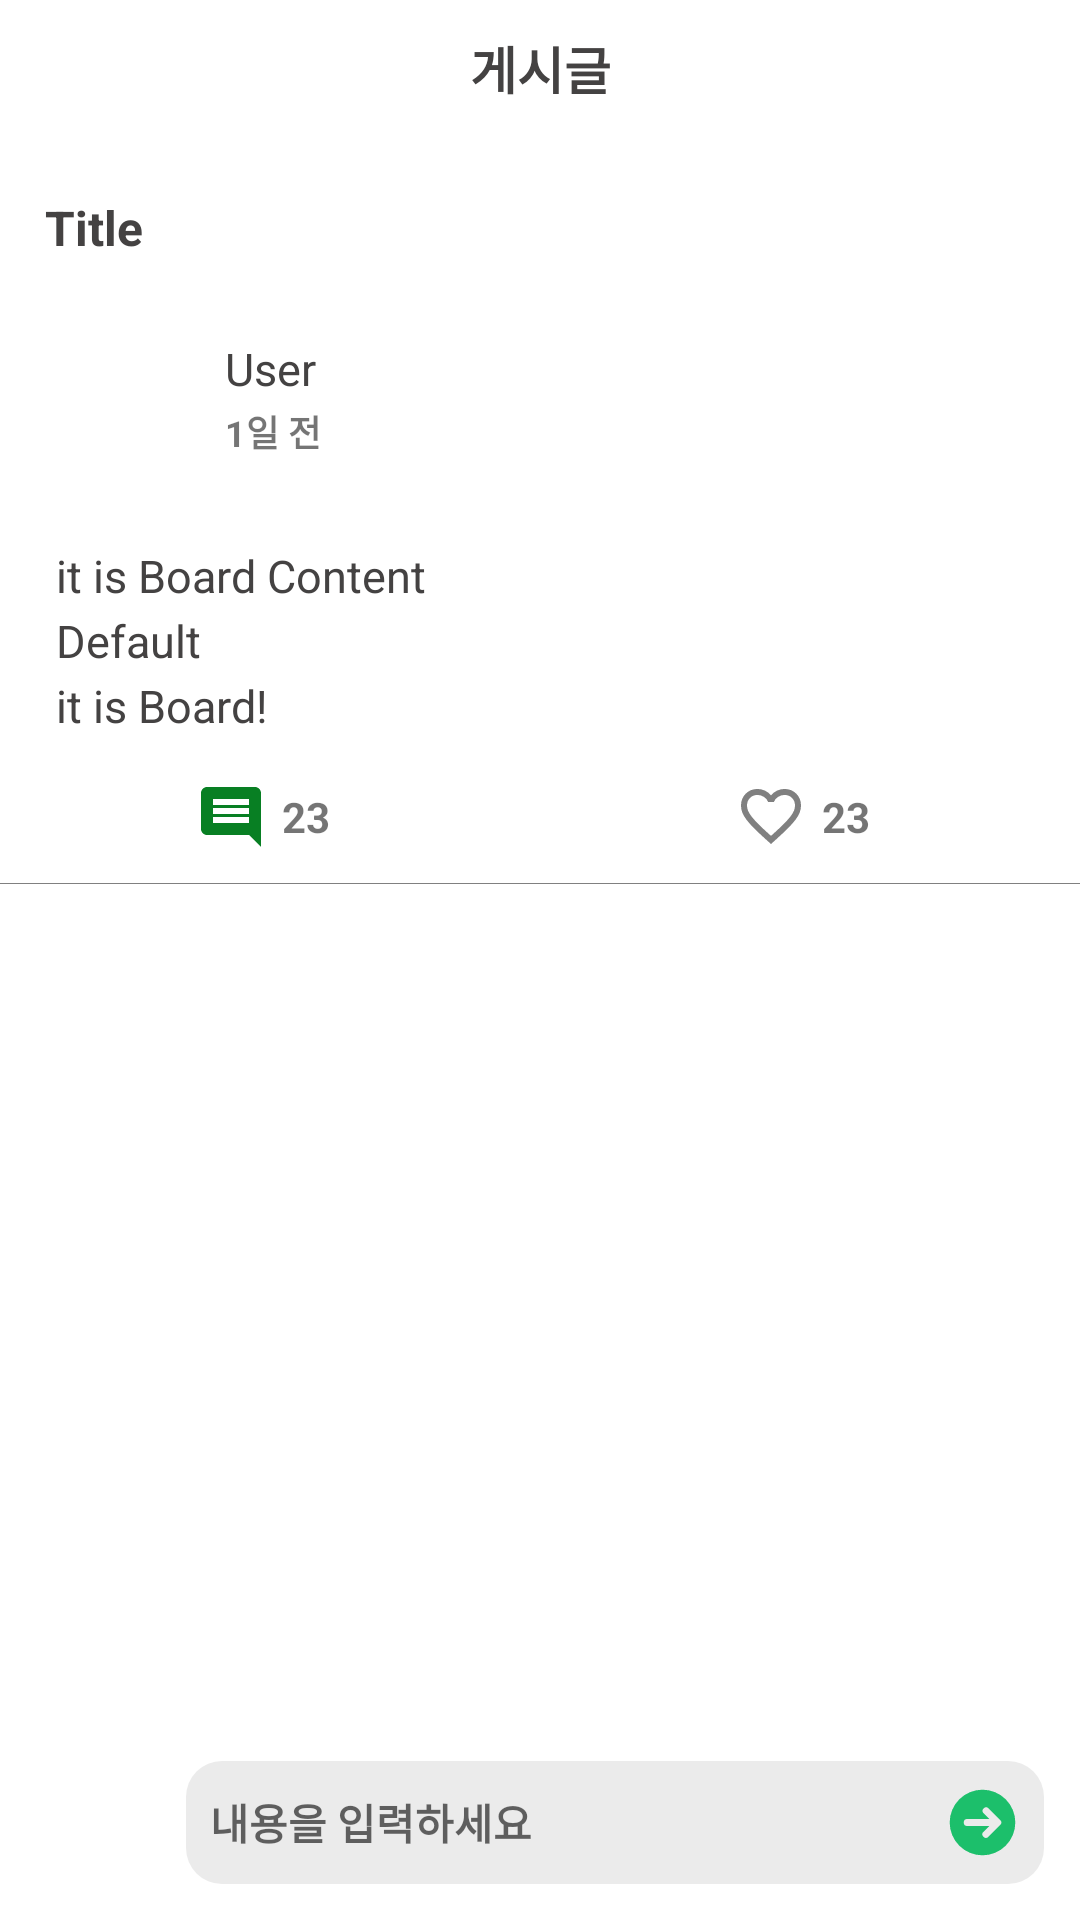

Named icons in this screenshot (1080w x 1920h) and their centers, (x=x, y=y):
comment: (x=231, y=817)
heart: (x=771, y=816)
send: (x=982, y=1822)
